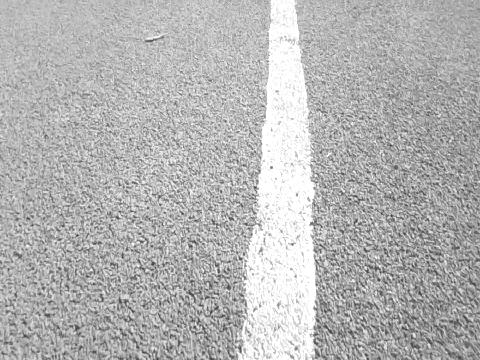Lines: (238, 0, 316, 360)
